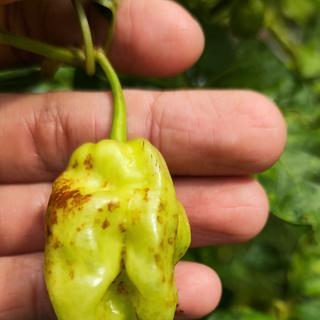Defect: (40, 176, 93, 240), (154, 200, 183, 255), (107, 260, 136, 304), (101, 198, 129, 240), (66, 149, 101, 175)
